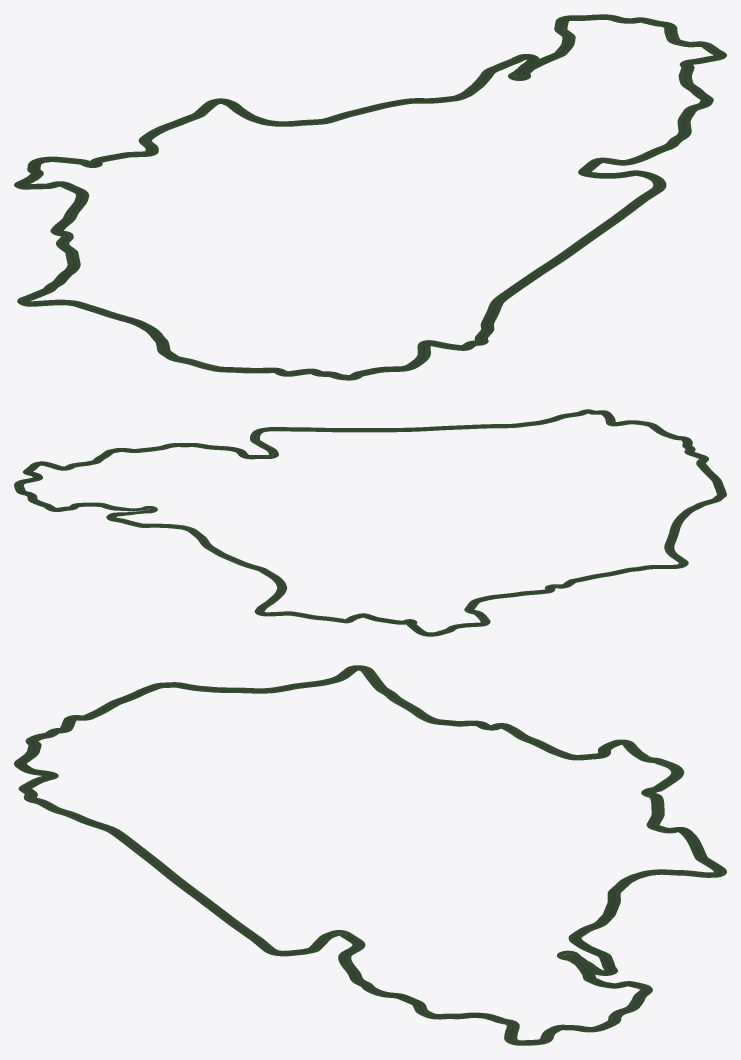
Rendered from Nordschleife_Banked_Drive_v05.glb.
The picture shows the model from 3 angles, top to bottom: view 1: azimuth 30°, elevation 25°; view 2: azimuth 150°, elevation 25°; view 3: azimuth 270°, elevation 25°; orthographic projection. The views are drawn at different scales.
Parts seen in each view (by area): view 1: Collider_00, Collider_10, Collider_13, Collider_15, Collider_08, Collider_01, Collider_17, Collider_02, Collider_14, Collider_16, Collider_12, Collider_18 (+9 smaller); view 2: Collider_10, Collider_06, Collider_03, Collider_09, Collider_18, Collider_19, Collider_08, Collider_01, Collider_05, Collider_04, Collider_17, Collider_00 (+9 smaller); view 3: Collider_04, Collider_07, Collider_14, Collider_13, Collider_06, Collider_02, Collider_19, Collider_05, Collider_15, Collider_16, Collider_18, Collider_17 (+9 smaller).
Part boxes in pixels (x1=…): Collider_00: x1=357, y1=340, x2=471, y2=376; Collider_10: x1=326, y1=92, x2=470, y2=122; Collider_13: x1=462, y1=14, x2=677, y2=347; Collider_15: x1=677, y1=74, x2=713, y2=135; Collider_08: x1=138, y1=99, x2=219, y2=155; Collider_01: x1=227, y1=367, x2=362, y2=380; Collider_17: x1=578, y1=170, x2=666, y2=204; Collider_02: x1=136, y1=323, x2=228, y2=372; Collider_14: x1=665, y1=33, x2=726, y2=75; Collider_16: x1=579, y1=134, x2=689, y2=171; Collider_12: x1=508, y1=27, x2=575, y2=80; Collider_18: x1=557, y1=202, x2=641, y2=257; Collider_10: x1=182, y1=525, x2=260, y2=570; Collider_06: x1=439, y1=411, x2=602, y2=634; Collider_03: x1=664, y1=516, x2=688, y2=567; Collider_09: x1=254, y1=567, x2=286, y2=615; Collider_18: x1=301, y1=427, x2=412, y2=432; Collider_19: x1=412, y1=423, x2=524, y2=431; Collider_08: x1=261, y1=611, x2=365, y2=623; Collider_01: x1=674, y1=436, x2=719, y2=479; Collider_05: x1=480, y1=579, x2=576, y2=601; Collider_04: x1=571, y1=564, x2=681, y2=582; Collider_17: x1=250, y1=427, x2=301, y2=458; Collider_00: x1=601, y1=410, x2=677, y2=439; Collider_04: x1=361, y1=667, x2=457, y2=725; Collider_07: x1=641, y1=762, x2=684, y2=825; Collider_14: x1=484, y1=1014, x2=574, y2=1045; Collider_13: x1=23, y1=788, x2=652, y2=1032; Collider_06: x1=21, y1=739, x2=669, y2=790; Collider_02: x1=110, y1=682, x2=245, y2=704; Collider_19: x1=98, y1=824, x2=184, y2=883; Collider_05: x1=453, y1=720, x2=568, y2=757; Collider_15: x1=369, y1=989, x2=491, y2=1019; Collider_16: x1=338, y1=932, x2=377, y2=992; Collider_18: x1=174, y1=881, x2=256, y2=936; Collider_17: x1=246, y1=930, x2=348, y2=956.
Bounding box in the file's own units: 6209 × 293 × 4906.
